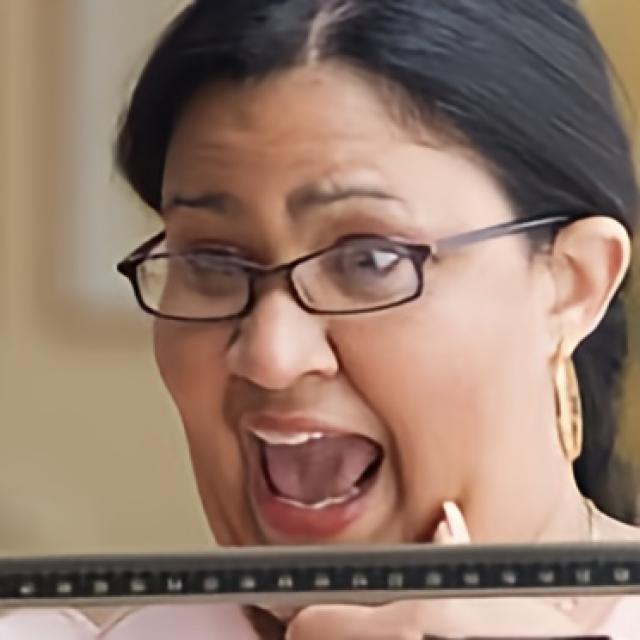fear: (148, 62, 537, 546)
